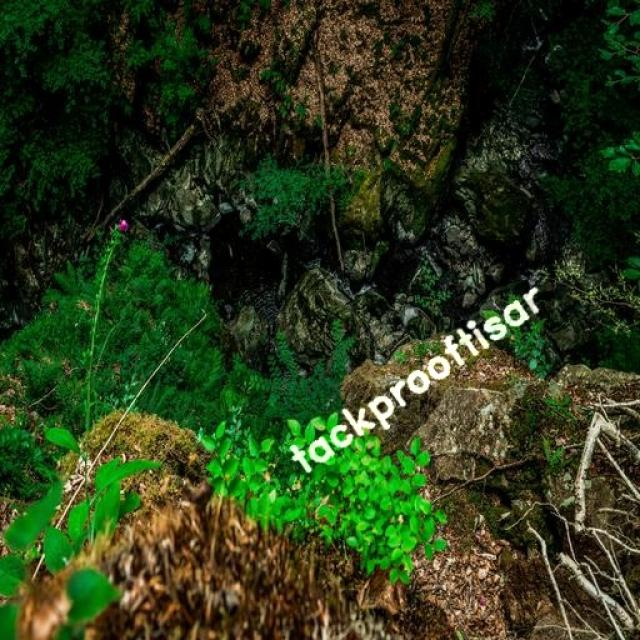watermark: (293, 272, 547, 481)
